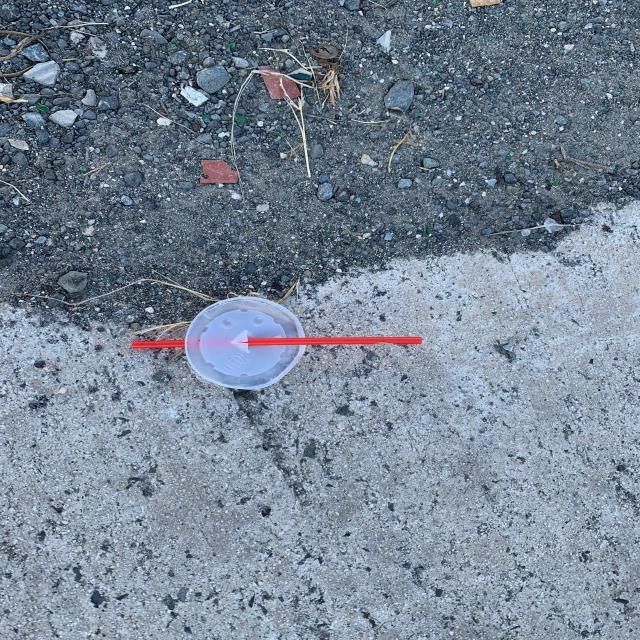litter: (185, 297, 306, 390), (132, 337, 421, 349)
